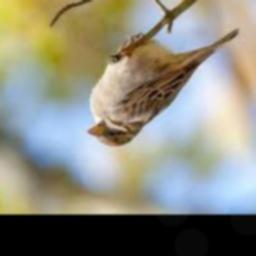Sparrow: (86, 26, 239, 148)
